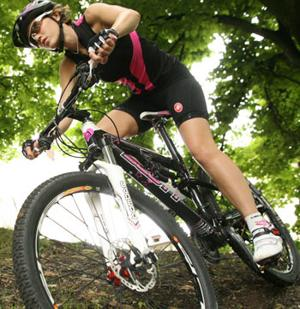person: (11, 3, 285, 268)
